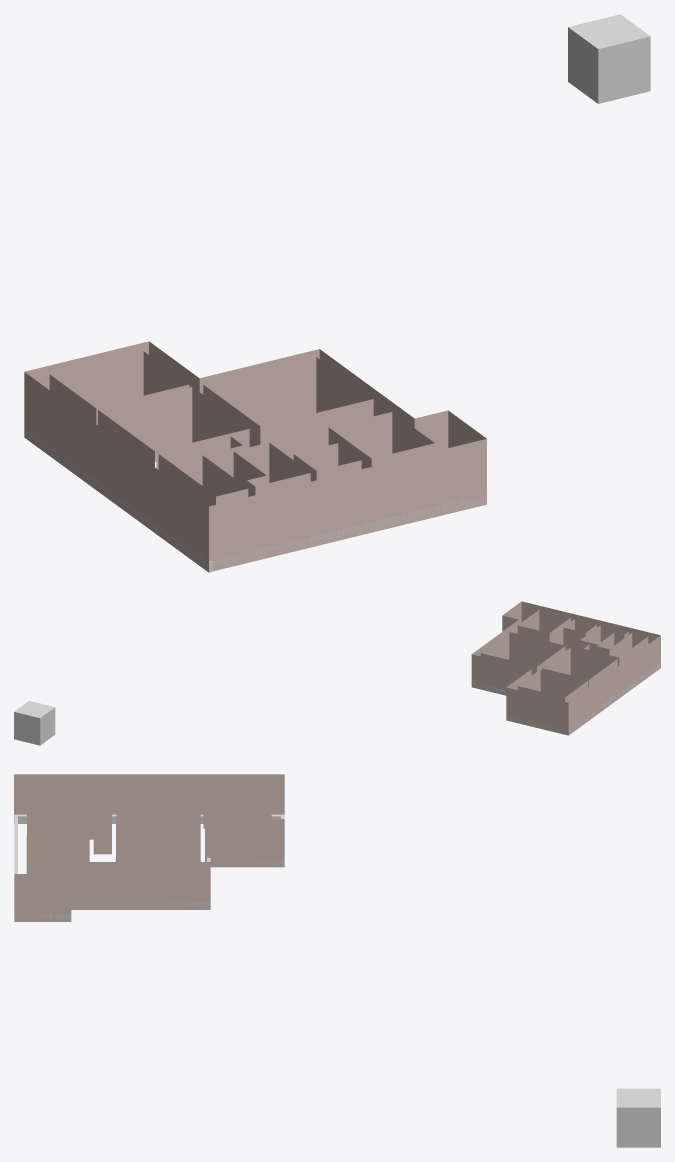
3 renders of one model, top to bottom at view 1: azimuth 30°, elevation 25°; view 2: azimuth 150°, elevation 25°; view 3: azimuth 270°, elevation 25°, orthographic. The views are drawn at different scales.
Parts seen in each view (by area): view 1: Room, Room.004, Room.002, Cube, Room.003, Room.005, Room.007, Baseboard, Room.006, Room.001; view 2: Room, Room.004, Room.002, Cube, Room.003, Room.007, Room.005, Room.006, Baseboard, Room.001; view 3: Room, Room.004, Room.002, Room.005, Room.003, Cube, Room.007, Room.006, Baseboard, Room.001.
Part boxes in pixels (left/top/right/bottom): Room: left=24, top=341, right=486, bottom=572; Room.004: left=203, top=357, right=373, bottom=459; Room.002: left=98, top=387, right=249, bottom=469; Cube: left=568, top=14, right=650, bottom=103; Room.003: left=49, top=351, right=189, bottom=425; Room.005: left=158, top=436, right=248, bottom=506; Room.007: left=328, top=412, right=434, bottom=468; Baseboard: left=24, top=428, right=486, bottom=572; Room.006: left=233, top=442, right=310, bottom=496; Room.001: left=293, top=443, right=361, bottom=481; Room: left=471, top=601, right=660, bottom=735; Room.004: left=480, top=632, right=565, bottom=675; Room.002: left=542, top=647, right=617, bottom=687; Cube: left=14, top=701, right=55, bottom=745; Room.003: left=517, top=669, right=588, bottom=702; Room.007: left=517, top=609, right=570, bottom=644; Room.005: left=583, top=632, right=648, bottom=666; Room.006: left=580, top=625, right=628, bottom=649; Baseboard: left=472, top=663, right=660, bottom=735; Room.001: left=563, top=619, right=596, bottom=650; Room: left=14, top=774, right=284, bottom=921; Room.004: left=115, top=817, right=199, bottom=861; Room.002: left=116, top=780, right=200, bottom=861; Room.005: left=27, top=780, right=111, bottom=854; Room.003: left=203, top=780, right=271, bottom=861; Cube: left=616, top=1088, right=660, bottom=1147; Room.007: left=26, top=835, right=89, bottom=873; Room.006: left=27, top=794, right=88, bottom=835; Baseboard: left=14, top=814, right=284, bottom=921; Room.001: left=28, top=816, right=62, bottom=835.
Bounding box in the file's own units: 3253 × 340 × 2915.
